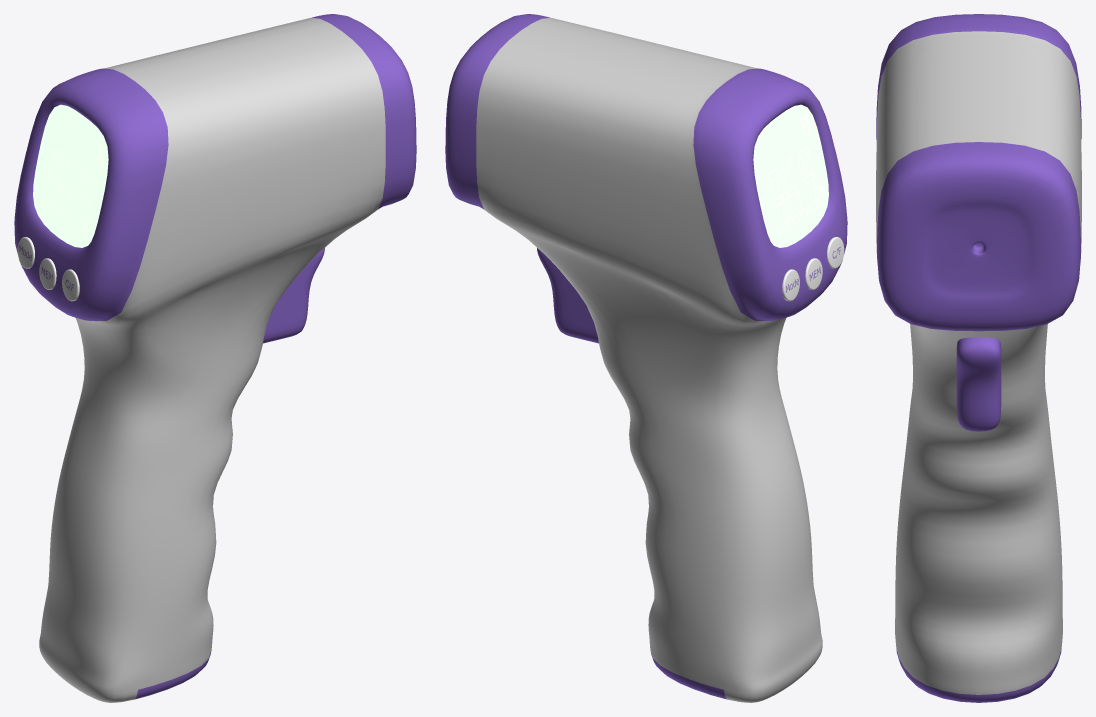
Rendered from thermometre.glb.
3 views of the same model, side by side, from view 1: azimuth 30°, elevation 25°; view 2: azimuth 150°, elevation 25°; view 3: azimuth 270°, elevation 25° (orthographic). The views are drawn at different scales.
Visible parts, largest first — view 1: Cube_White_0, Cube_Purple_0, Cube.002_Screen_0, Cube.001_Purple_0, Cylinder_Buttons_0; view 2: Cube_White_0, Cube_Purple_0, Cube.002_Screen_0, Cube.001_Purple_0, Cylinder_Buttons_0; view 3: Cube_White_0, Cube_Purple_0, Cube.001_Purple_0.
Boxes of the visible parts, box(x1,y1,x2,y2) form: Cube_White_0: box(39, 17, 385, 702); Cube_Purple_0: box(14, 14, 416, 699); Cube.002_Screen_0: box(33, 104, 108, 247); Cube.001_Purple_0: box(263, 248, 324, 343); Cylinder_Buttons_0: box(17, 237, 79, 301); Cube_White_0: box(476, 17, 822, 702); Cube_Purple_0: box(445, 14, 847, 699); Cube.002_Screen_0: box(753, 104, 828, 247); Cube.001_Purple_0: box(537, 248, 598, 343); Cylinder_Buttons_0: box(782, 237, 844, 301); Cube_White_0: box(876, 31, 1081, 694); Cube_Purple_0: box(876, 14, 1081, 702); Cube.001_Purple_0: box(956, 337, 1001, 431).
Size of the model in its own units: 0.0969 by 0.165 by 0.0475.
4 materials, 2 textured.
